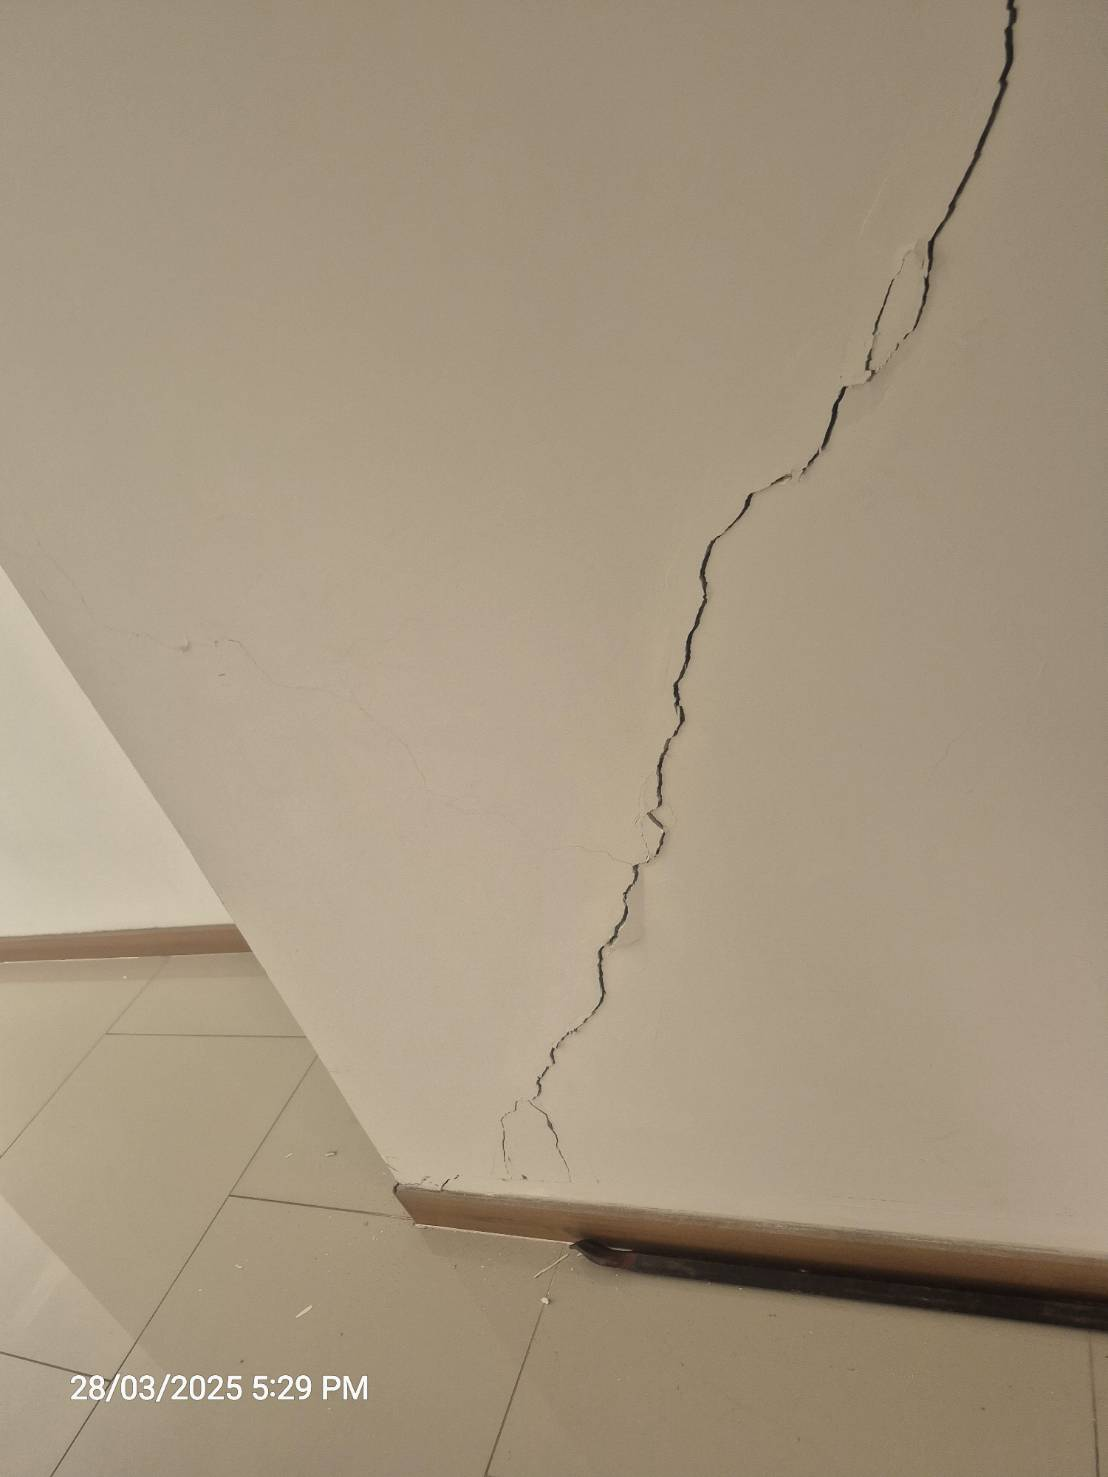Low: (432, 1, 1072, 1190)
